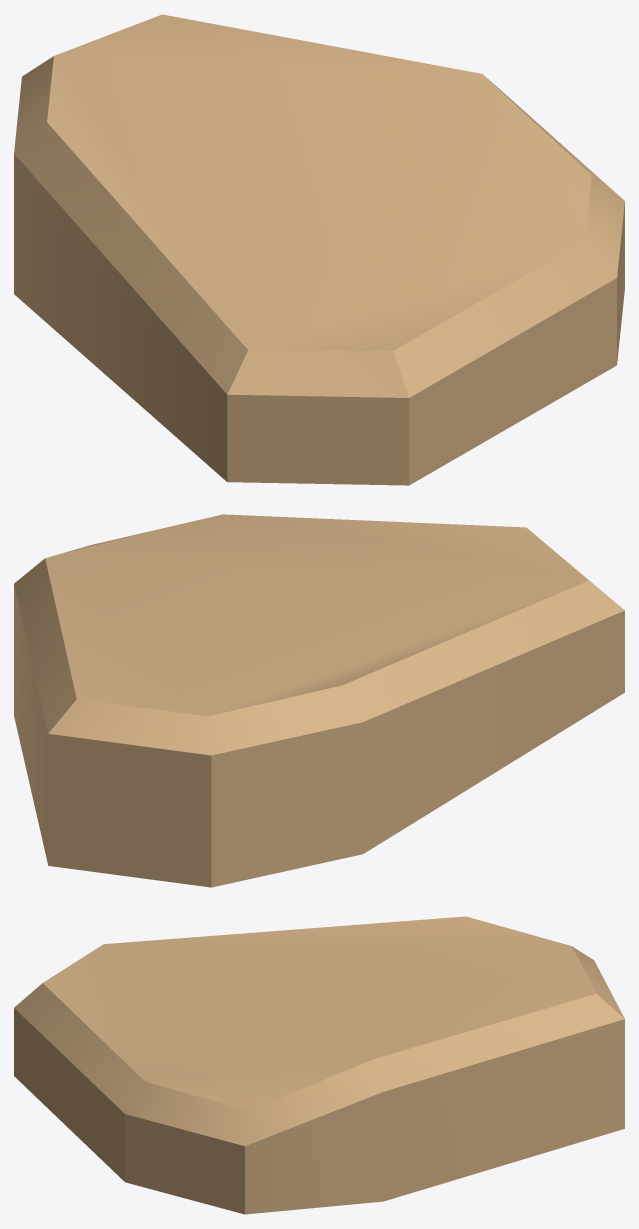
File: 06 Stone.FBX
3 renders of one model, top to bottom at view 1: azimuth 30°, elevation 25°; view 2: azimuth 150°, elevation 25°; view 3: azimuth 270°, elevation 25°, orthographic. The views are drawn at different scales.
Visible parts, largest first — view 1: Cylinder034; view 2: Cylinder034; view 3: Cylinder034.
Part boxes in pixels (<box>): Cylinder034: <box>14,14,624,485</box>; Cylinder034: <box>14,514,624,887</box>; Cylinder034: <box>14,916,624,1214</box>.
Size of the model in its own units: 336 by 109 by 459.
